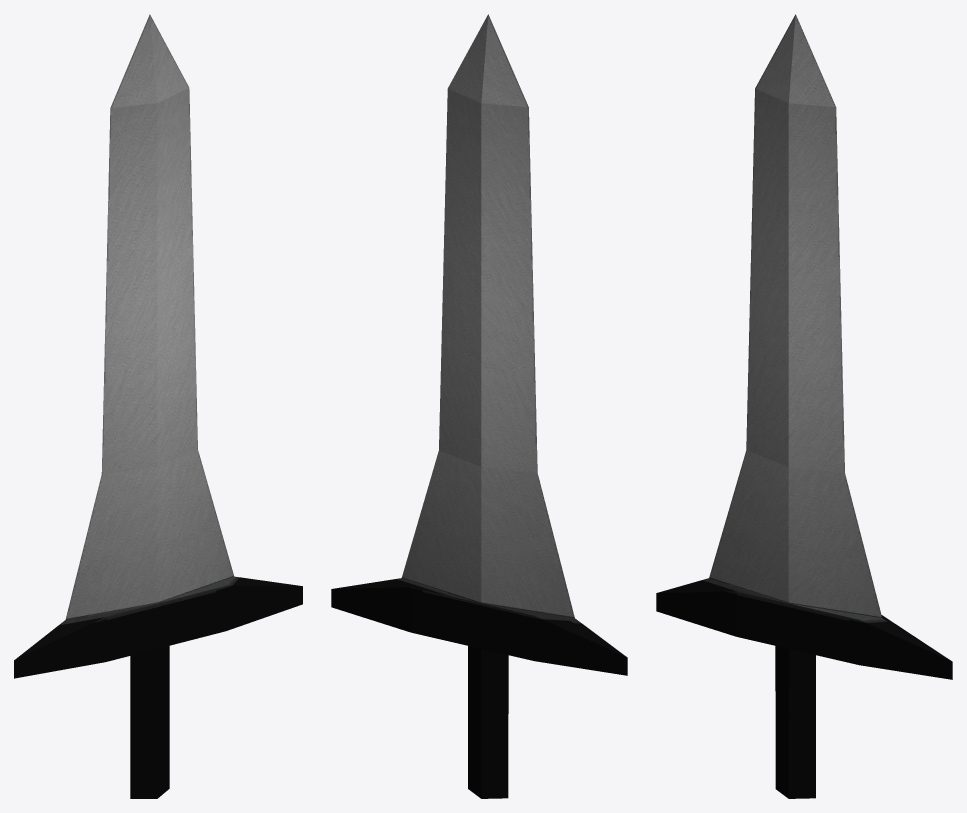
The model's file is SwordtonOfArtorias.fbx.
3 views of the same model, side by side, from view 1: azimuth 30°, elevation 25°; view 2: azimuth 150°, elevation 25°; view 3: azimuth 330°, elevation 25° (orthographic).
Parts seen in each view (by area): view 1: root; view 2: root; view 3: root.
Part boxes in pixels (box(x1,y1,x2,y2)): root: box(14, 14, 302, 798); root: box(331, 14, 627, 798); root: box(656, 14, 952, 798).
Bounding box in the file's own units: 0.2011 × 0.512 × 0.019.
1 material, 1 textured.
